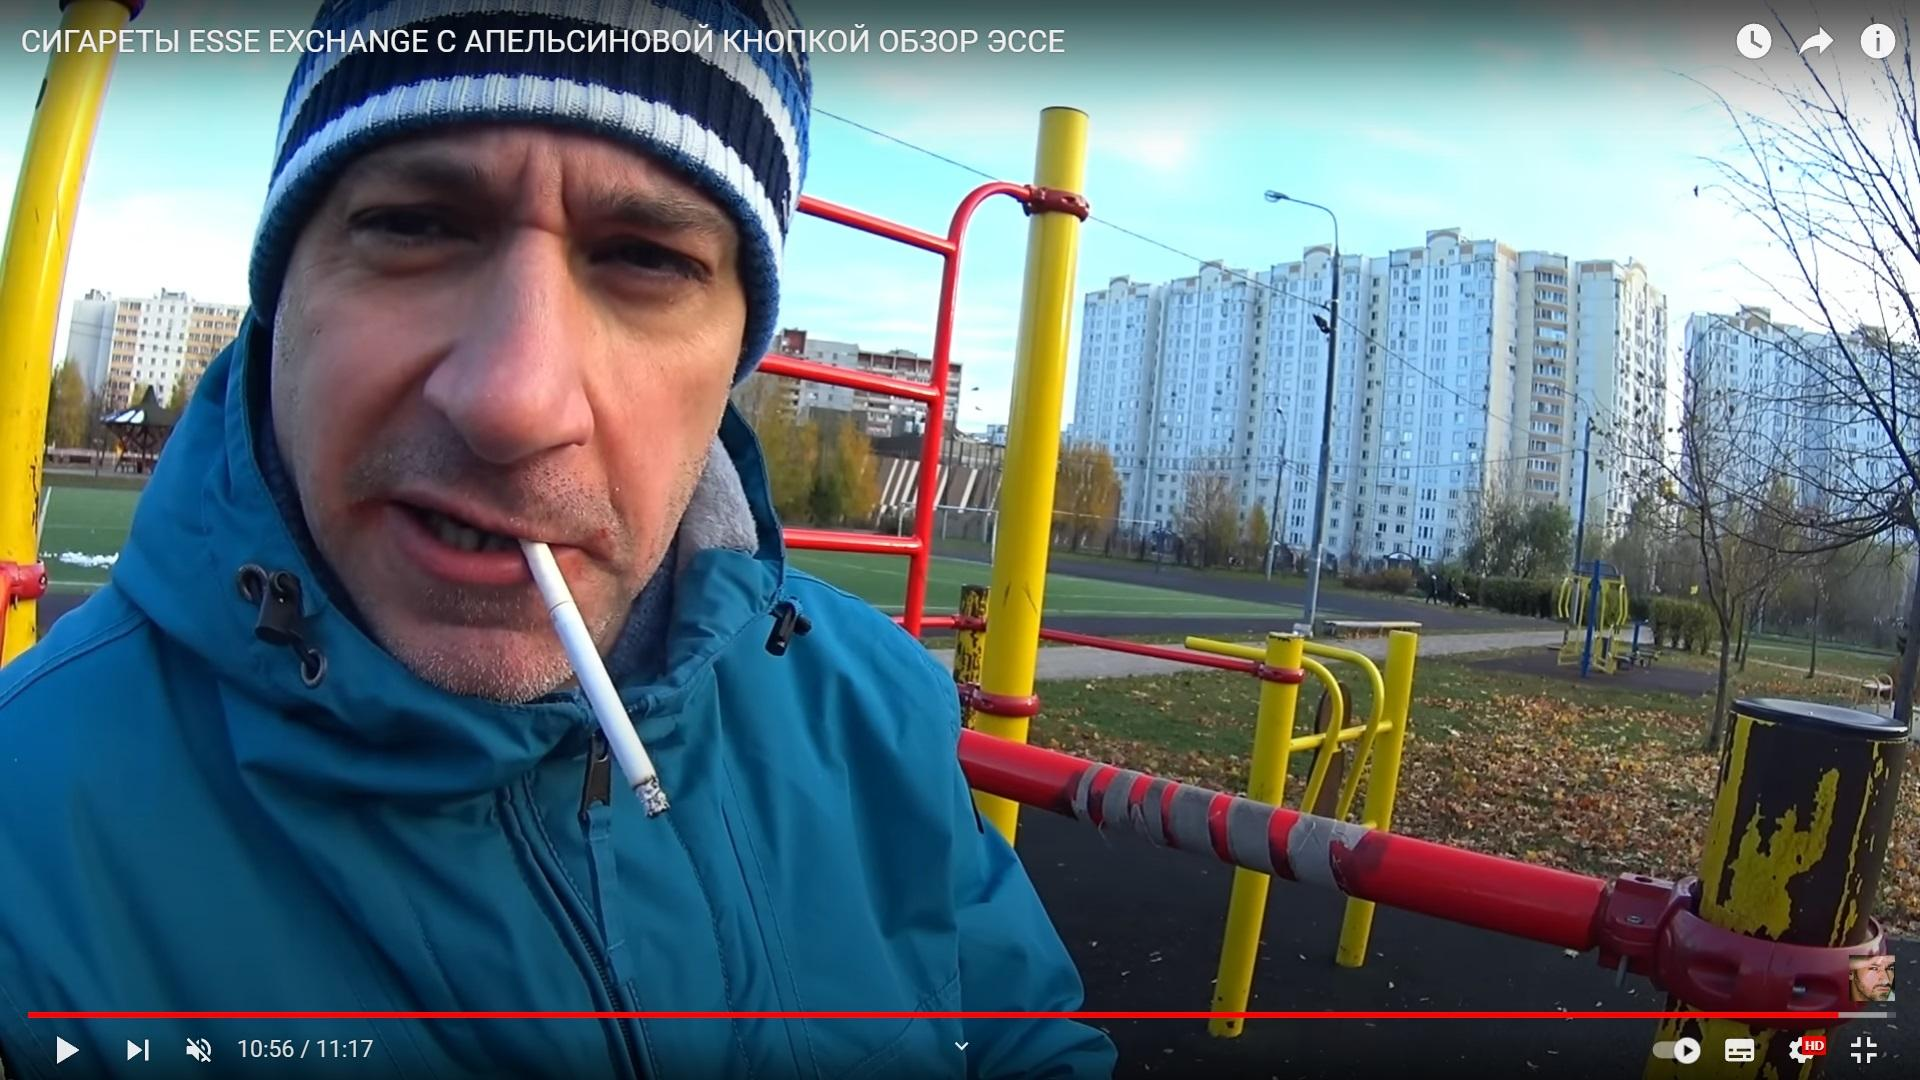cigarette: (521, 541, 667, 816)
